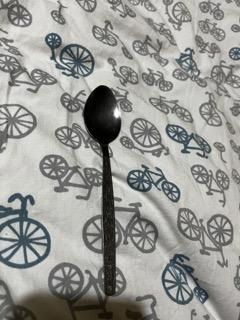spoon: (83, 83, 122, 297)
